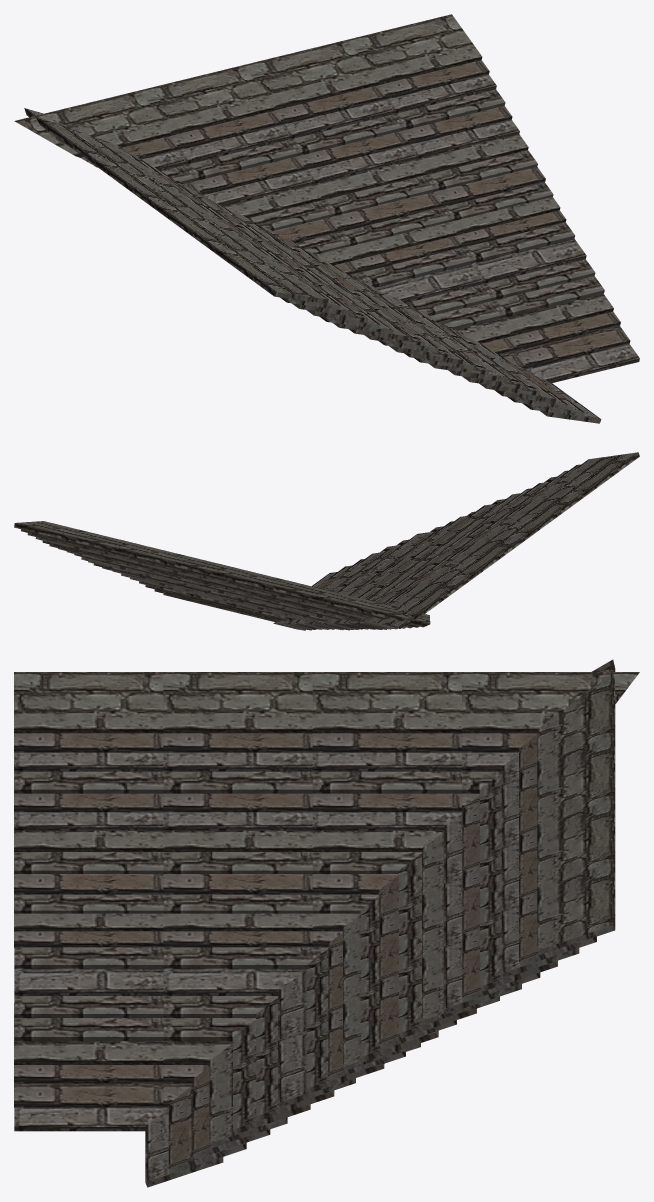
The model's file is RoofTopStone(geçiş -10).fbx.
3 renders of one model, top to bottom at view 1: azimuth 30°, elevation 25°; view 2: azimuth 150°, elevation 25°; view 3: azimuth 270°, elevation 25°, orthographic. The views are drawn at different scales.
Parts seen in each view (by area): view 1: Cube.001; view 2: Cube.001; view 3: Cube.001.
Part boxes in pixels (x1,y1,x2,y2): Cube.001: (14, 14, 639, 423); Cube.001: (14, 452, 639, 630); Cube.001: (14, 659, 639, 1187).
Bounding box in the file's own units: 185 × 85.26 × 184.
1 material, 1 textured.
